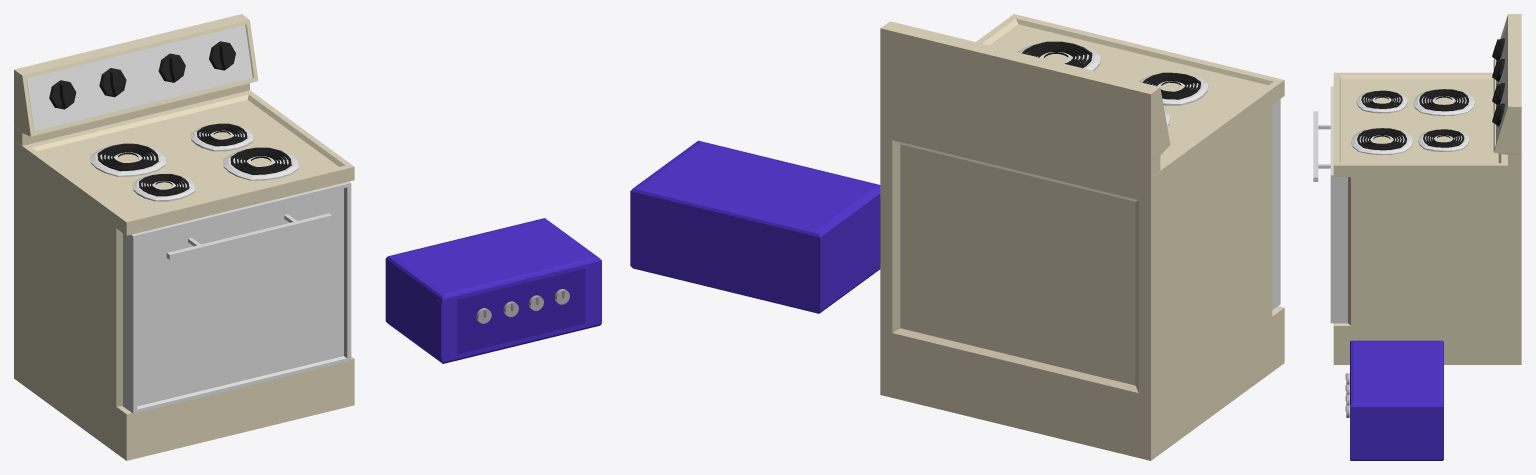
Rendered from 22 Stove 1.fbx.
3 views of the same model, side by side, from view 1: azimuth 30°, elevation 25°; view 2: azimuth 150°, elevation 25°; view 3: azimuth 270°, elevation 25° (orthographic). The views are drawn at different scales.
Visible parts, largest first — view 1: Cube, Box001, Puerta, Cube.005, Cube.004, Cube.002, Boton3, Boton2, Boton1, Boton4; view 2: Cube, Box001, Cube.004, Cube.005; view 3: Cube, Box001, Cube.005, Cube.004, Cube.002.
Boxes of the visible parts, box(x1,y1,x2,y2) form: Cube: box(14, 14, 354, 460); Box001: box(385, 218, 601, 363); Puerta: box(435, 268, 585, 358); Cube.005: box(90, 143, 298, 180); Cube.004: box(132, 123, 253, 201); Cube.002: box(166, 213, 332, 259); Boton3: box(158, 53, 185, 82); Boton2: box(99, 68, 126, 97); Boton1: box(49, 80, 76, 109); Boton4: box(209, 41, 235, 70); Cube: box(880, 14, 1284, 460); Box001: box(630, 140, 880, 313); Cube.004: box(1138, 72, 1208, 105); Cube.005: box(1017, 41, 1170, 126); Cube: box(1330, 14, 1521, 364); Box001: box(1350, 340, 1443, 460); Cube.005: box(1351, 89, 1475, 155); Cube.004: box(1356, 90, 1469, 151); Cube.002: box(1313, 111, 1330, 181).
Bounding box in the file's own units: 426 × 259 × 190.
